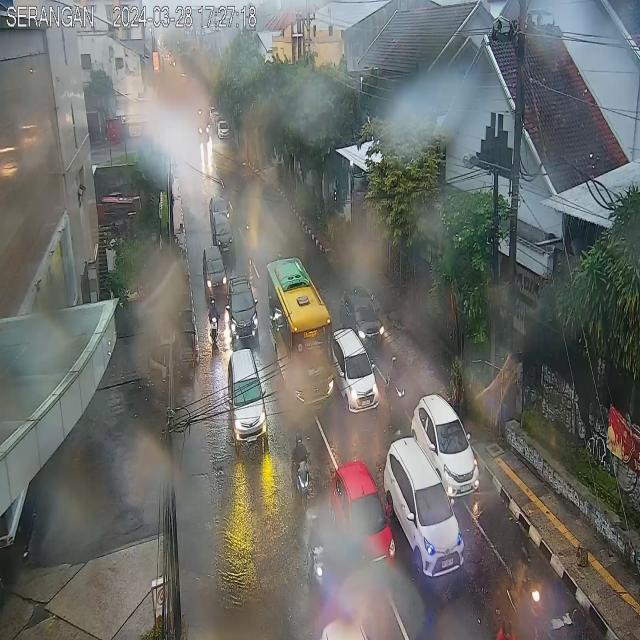bus: (266, 256, 333, 412)
car: (383, 438, 465, 580), (331, 457, 396, 585), (412, 394, 479, 500), (228, 349, 268, 448), (332, 330, 378, 413), (340, 287, 384, 354), (228, 275, 259, 343), (203, 245, 228, 301), (212, 213, 235, 257), (209, 196, 229, 227)
motorcycle: (504, 541, 542, 640), (304, 516, 326, 603), (290, 432, 312, 515), (384, 351, 406, 422), (209, 298, 220, 348)
